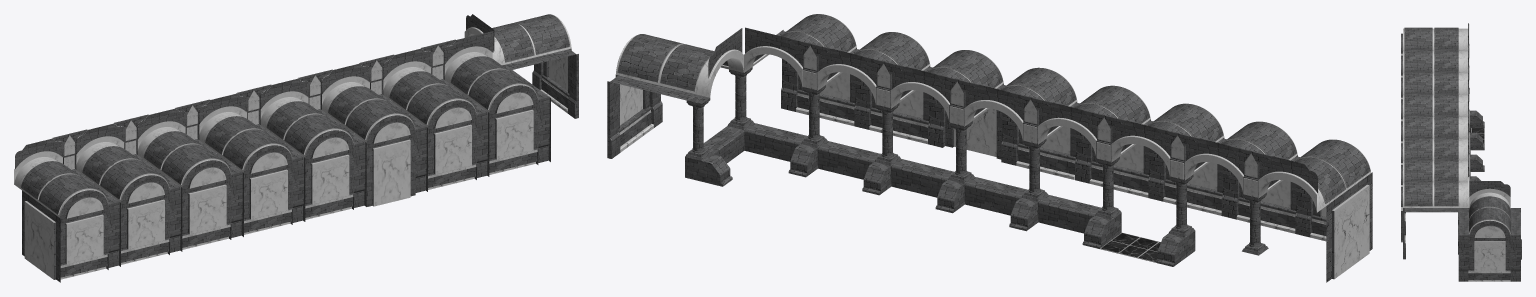
The model's file is FBX_Cour_Shadow.fbx.
3 renders of one model, left to right at view 1: azimuth 30°, elevation 25°; view 2: azimuth 150°, elevation 25°; view 3: azimuth 270°, elevation 25°, orthographic. The views are drawn at different scales.
Parts seen in each view (by area): view 1: SM_Cour_Shadow_70, SM_Cour_Shadow_73, SM_Cour_Shadow_68, SM_Cour_Shadow_74, SM_Cour_Shadow_72, SM_Cour_Shadow_71, SM_Cour_Shadow_69, SM_Cour_Shadow_75, SM_Cour_Shadow_33, SM_Cour_Shadow_64, SM_Cour_Shadow_62, SM_Cour_Shadow_31 (+39 smaller); view 2: SM_Cour_Shadow_33, SM_Cour_Shadow_67, SM_Cour_Shadow_64, SM_Cour_Shadow_62, SM_Cour_Shadow_63, SM_Cour_Shadow_37, SM_Cour_Shadow_31, SM_Cour_Shadow_35, SM_Cour_Shadow_34, SM_Cour_Shadow_32, SM_Cour_Shadow_70, SM_Cour_Shadow_11 (+61 smaller); view 3: SM_Cour_Shadow_61, SM_Cour_Shadow_31, SM_Cour_Shadow_64, SM_Cour_Shadow_63, SM_Cour_Shadow_62, SM_Cour_Shadow_32, SM_Cour_Shadow_37, SM_Cour_Shadow_35, SM_Cour_Shadow_34, SM_Cour_Shadow_33, SM_Cour_Shadow_12, SM_Cour_Shadow_11 (+8 smaller).
Part boxes in pixels (x1,y1,x2,y2): SM_Cour_Shadow_70: [366, 115, 415, 206]; SM_Cour_Shadow_73: [182, 160, 231, 234]; SM_Cour_Shadow_68: [489, 85, 538, 159]; SM_Cour_Shadow_74: [121, 175, 169, 249]; SM_Cour_Shadow_72: [244, 145, 292, 219]; SM_Cour_Shadow_71: [305, 130, 353, 204]; SM_Cour_Shadow_69: [428, 100, 476, 174]; SM_Cour_Shadow_75: [59, 190, 108, 264]; SM_Cour_Shadow_33: [464, 14, 571, 65]; SM_Cour_Shadow_64: [14, 151, 107, 217]; SM_Cour_Shadow_62: [137, 121, 230, 187]; SM_Cour_Shadow_31: [444, 46, 537, 112]; SM_Cour_Shadow_33: [616, 34, 743, 97]; SM_Cour_Shadow_67: [1326, 172, 1372, 282]; SM_Cour_Shadow_64: [1258, 139, 1371, 212]; SM_Cour_Shadow_62: [1111, 103, 1224, 176]; SM_Cour_Shadow_63: [1185, 121, 1297, 193]; SM_Cour_Shadow_37: [964, 67, 1077, 140]; SM_Cour_Shadow_31: [744, 14, 856, 86]; SM_Cour_Shadow_35: [891, 50, 1003, 121]; SM_Cour_Shadow_34: [817, 32, 930, 104]; SM_Cour_Shadow_32: [1038, 85, 1150, 157]; SM_Cour_Shadow_70: [945, 108, 1002, 159]; SM_Cour_Shadow_11: [607, 75, 694, 158]; SM_Cour_Shadow_61: [1469, 220, 1510, 271]; SM_Cour_Shadow_31: [1403, 177, 1469, 207]; SM_Cour_Shadow_64: [1403, 24, 1469, 50]; SM_Cour_Shadow_63: [1403, 46, 1469, 72]; SM_Cour_Shadow_62: [1403, 68, 1469, 94]; SM_Cour_Shadow_32: [1403, 90, 1469, 115]; SM_Cour_Shadow_37: [1403, 111, 1469, 137]; SM_Cour_Shadow_35: [1403, 133, 1469, 159]; SM_Cour_Shadow_34: [1403, 155, 1469, 181]; SM_Cour_Shadow_33: [1469, 188, 1510, 235]; SM_Cour_Shadow_12: [1458, 212, 1469, 281]; SM_Cour_Shadow_11: [1510, 212, 1520, 281].
Bounding box in the file's own units: 4072 × 706 × 1038.
